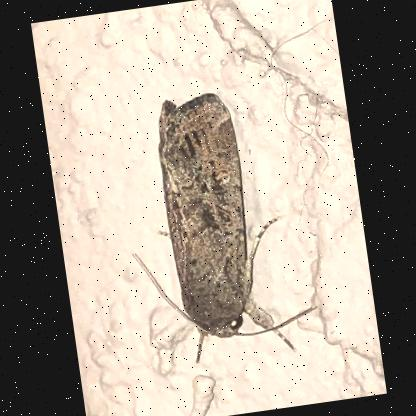Fall Armyworm Moth: (107, 77, 326, 375)
